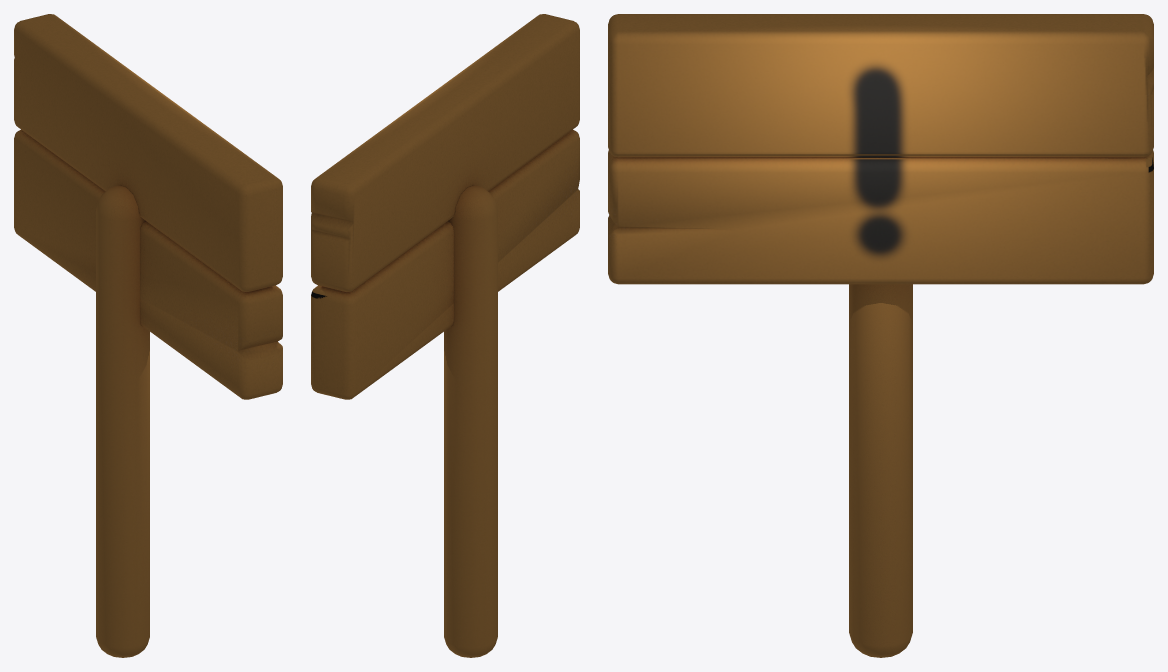
The model's file is board2.glb.
3 views of the same model, side by side, from view 1: azimuth 30°, elevation 25°; view 2: azimuth 150°, elevation 25°; view 3: azimuth 270°, elevation 25° (orthographic). The views are drawn at different scales.
Visible parts, largest first — view 1: Cube, Cylinder; view 2: Cube, Cylinder; view 3: Cube, Cylinder.
Part boxes in pixels (left/top/right/bottom): Cube: left=14, top=14, right=282, bottom=399; Cylinder: left=96, top=185, right=149, bottom=657; Cube: left=311, top=14, right=579, bottom=399; Cylinder: left=444, top=185, right=497, bottom=657; Cube: left=608, top=14, right=1153, bottom=284; Cylinder: left=849, top=284, right=912, bottom=657.
Size of the model in its own units: 1.32 by 9.81 by 7.54.
1 material, 1 textured.
